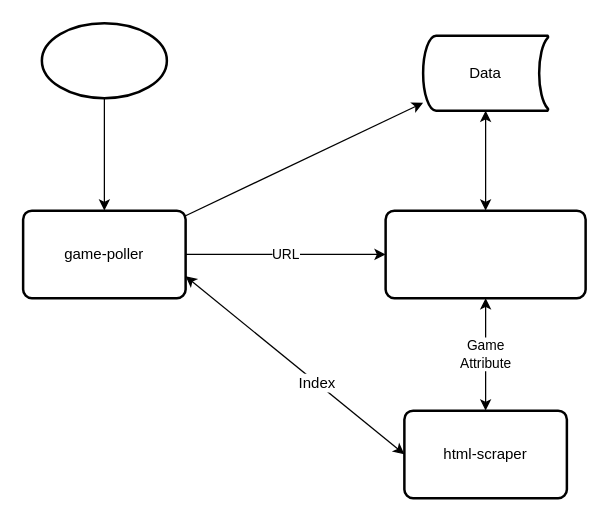
Some shapes in this 608 by 520 pixel diagram are drawn without their labels. The shapes that lost their labels are listed below. From the top down, each one's box as (x1, y1, x2, y2) in pixels, then its label:
(40, 21, 168, 99): Scheduler
(384, 209, 586, 299): game-processor
